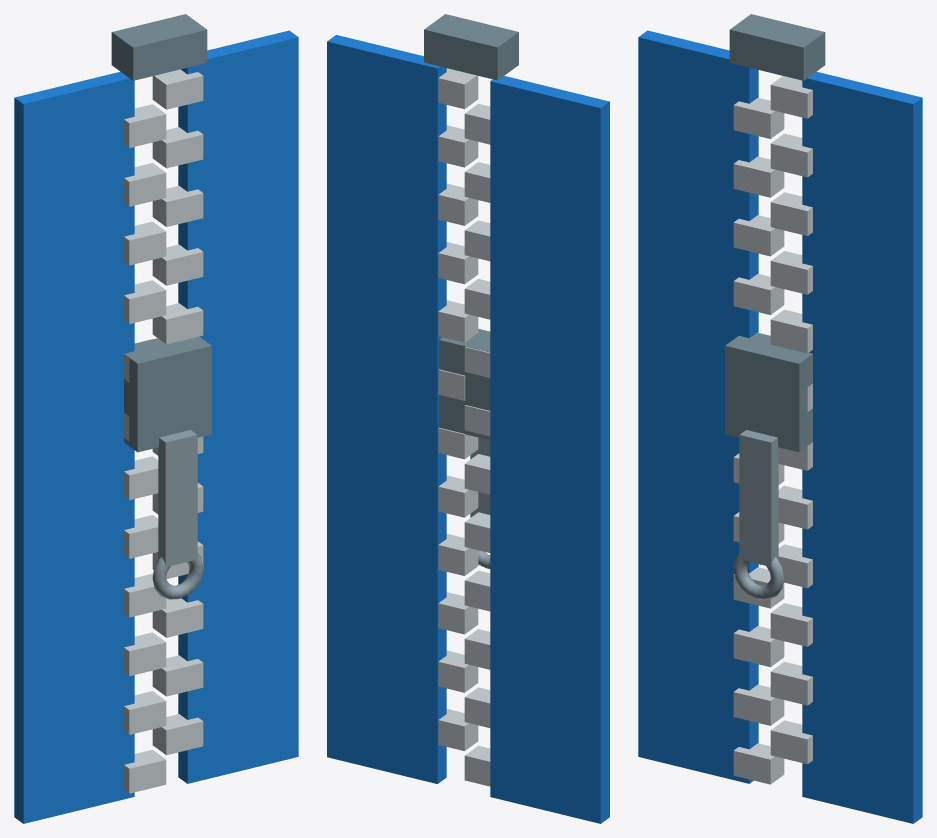
File: zipper.glb
3 renders of one model, left to right at view 1: azimuth 30°, elevation 25°; view 2: azimuth 150°, elevation 25°; view 3: azimuth 330°, elevation 25°, orthographic.
Parts seen in each view (by area): view 1: zipper; view 2: zipper; view 3: zipper.
Part boxes in pixels (x1=…): zipper: x1=14, y1=14, x2=298, y2=823; zipper: x1=327, y1=14, x2=609, y2=823; zipper: x1=638, y1=14, x2=922, y2=823.
Size of the model in its own units: 1.04 by 2.74 by 0.215.
